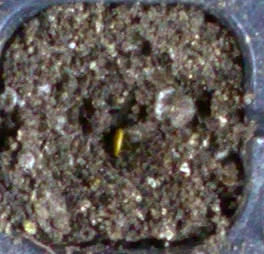chilli seed: (114, 129, 123, 156)
